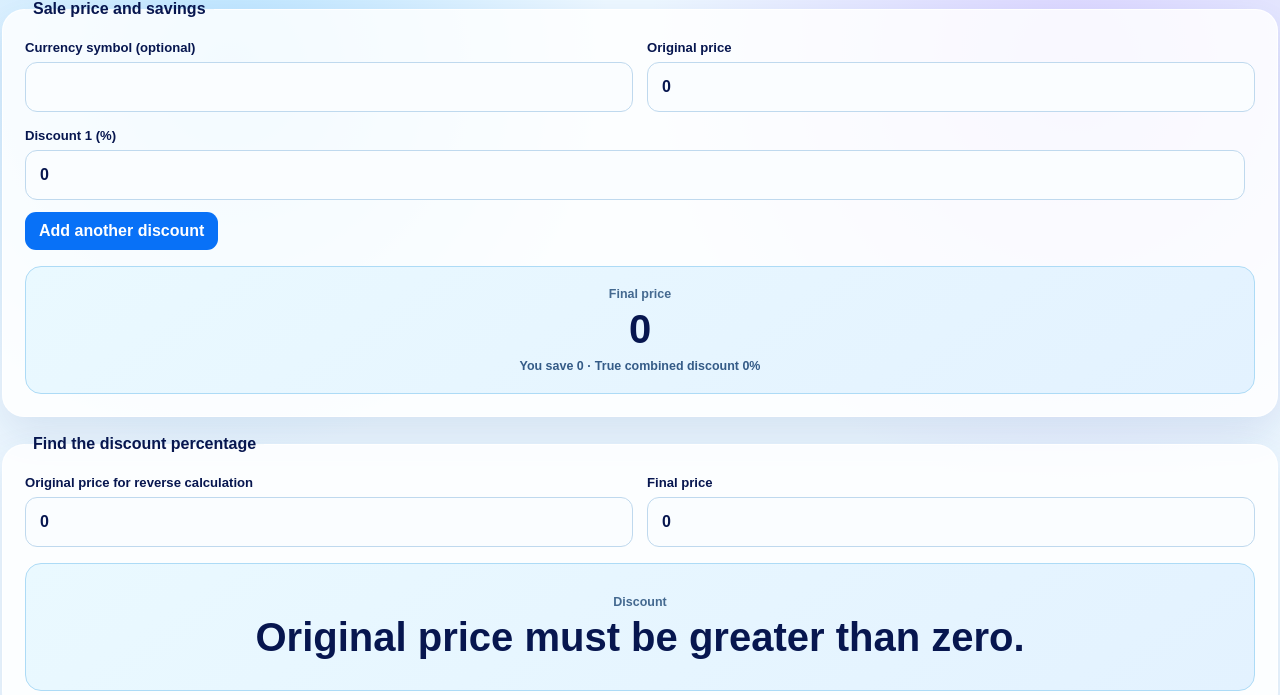
Scenario: Tier 1 calculator forms › adds and removes stacked discount rows
The image size is (1280, 695).
Expected: the number of number fields labelled "Discount 1 (%)" is 1, x1=25 y1=150 x2=1245 y2=200
Click the button "Add another discount": click(122, 231) x1=25 y1=212 x2=218 y2=250
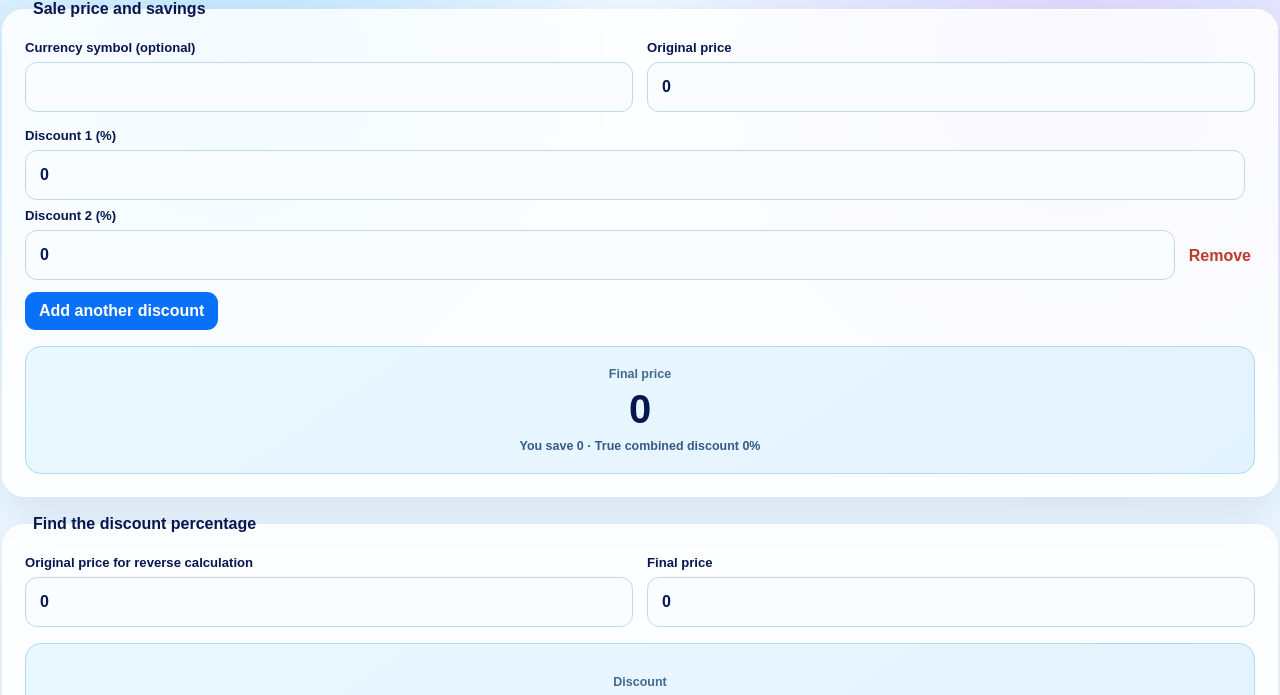
Expected: the number of number fields labelled "Discount 1 (%)" is 2, x1=25 y1=150 x2=1245 y2=200; x1=25 y1=230 x2=1175 y2=280
Click the button with aria-label "Remove discount 2": click(1220, 256) x1=1185 y1=237 x2=1255 y2=275
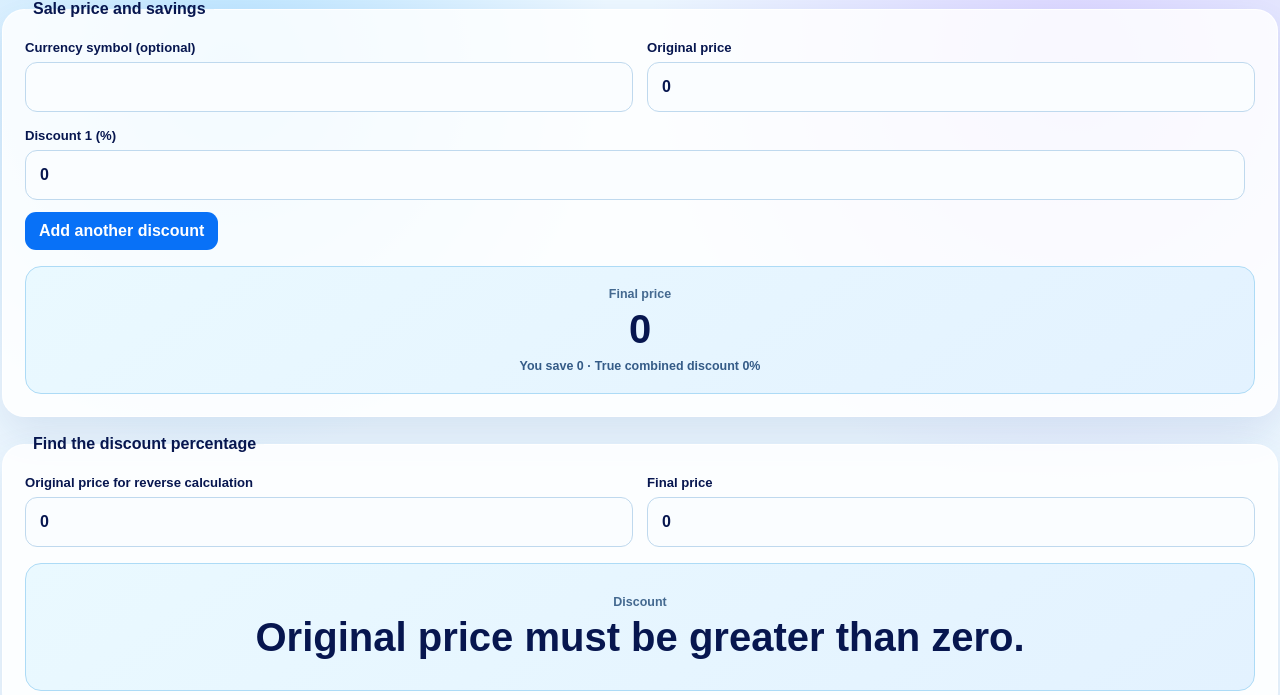
Expected: the number of number fields labelled "Discount 1 (%)" is 1, x1=25 y1=150 x2=1245 y2=200
